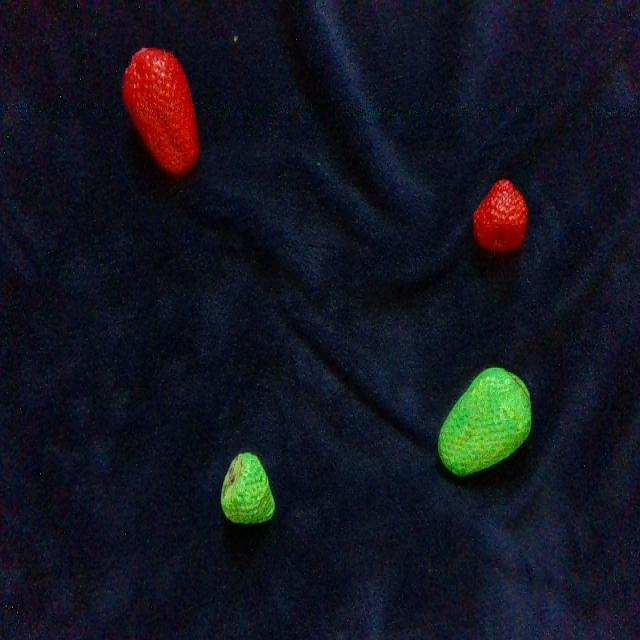chica_roja: (474, 180, 527, 251)
grande_roja: (123, 48, 198, 175)
verde: (439, 368, 531, 475), (221, 453, 274, 521)
